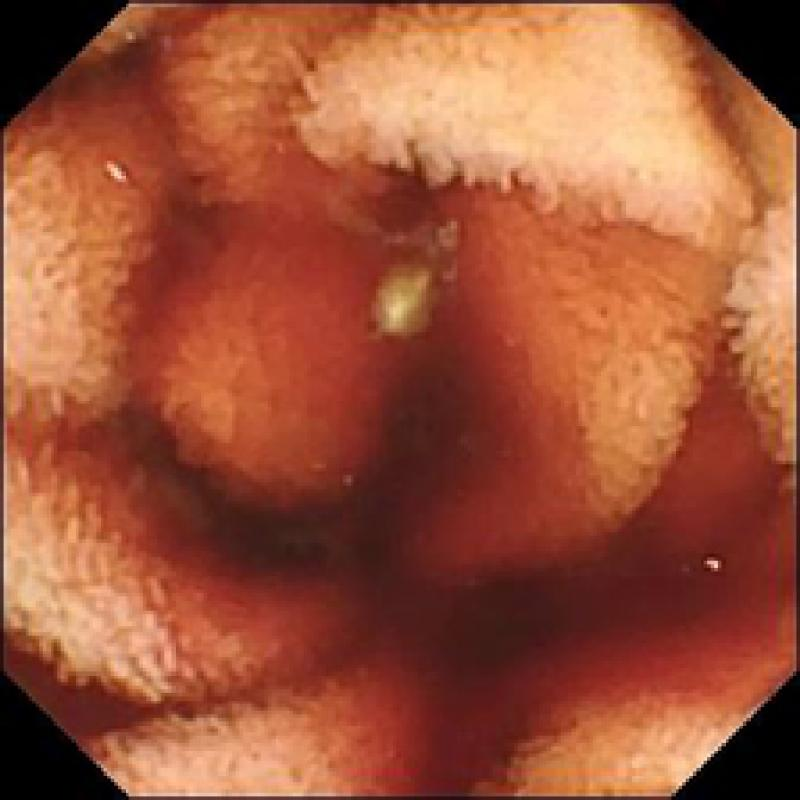bleeding: (28, 25, 800, 800)
